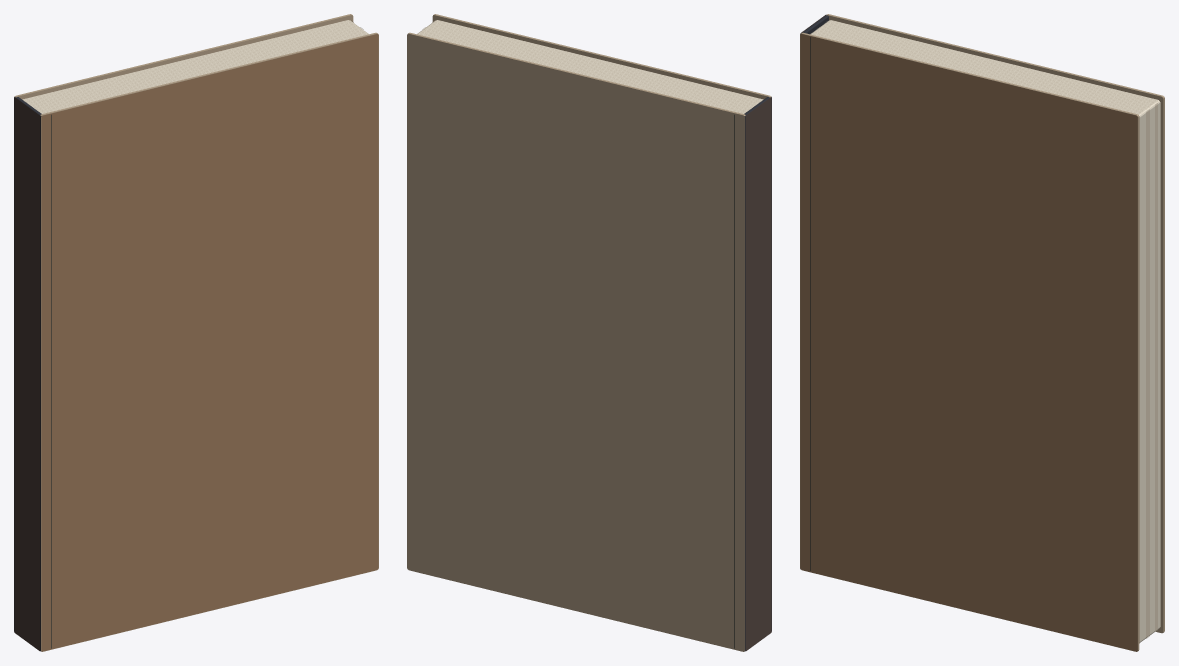
File: book.glb
3 renders of one model, left to right at view 1: azimuth 30°, elevation 25°; view 2: azimuth 150°, elevation 25°; view 3: azimuth 330°, elevation 25°, orthographic.
Visible parts, largest first — view 1: Detail_book, Shelf_book; view 2: Detail_book, Shelf_book; view 3: Detail_book, Shelf_book.
Part boxes in pixels (x1,y1,x2,y2): Detail_book: (14,14,378,651); Shelf_book: (14,14,378,651); Detail_book: (407,14,771,651); Shelf_book: (407,14,771,651); Detail_book: (800,14,1164,651); Shelf_book: (800,14,1164,651).
Size of the model in its own units: 0.1449 by 0.2199 by 0.02.
